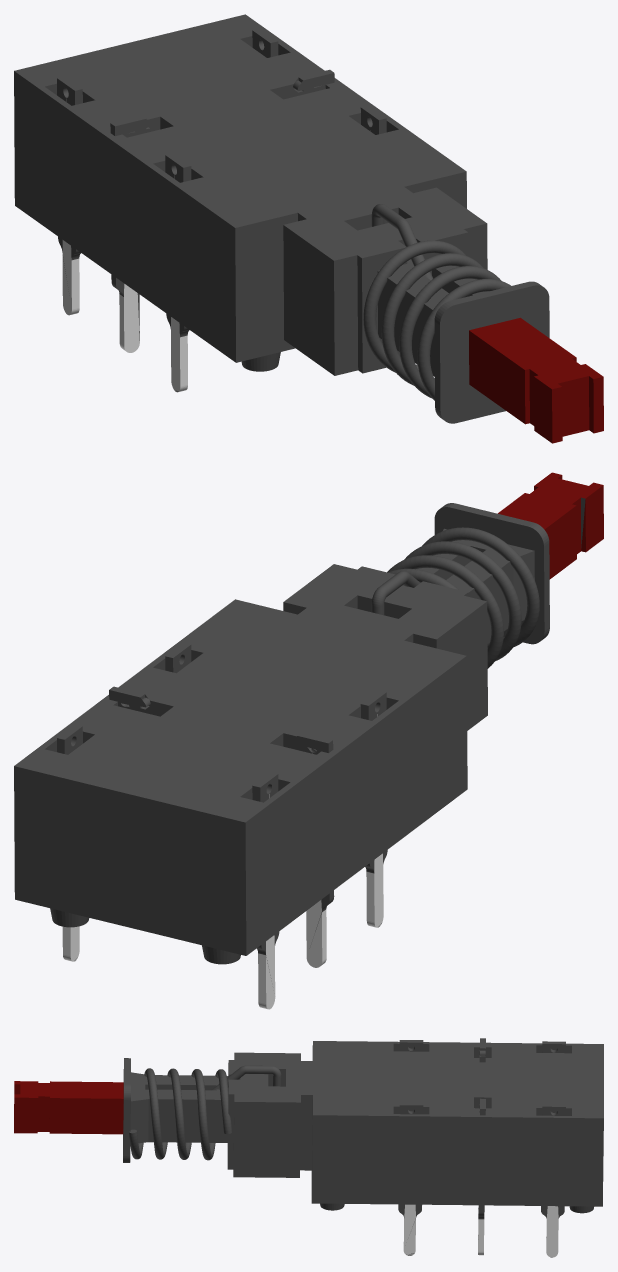
Rendered from poweswitch.fbx.
The picture shows the model from 3 angles, top to bottom: view 1: azimuth 30°, elevation 25°; view 2: azimuth 150°, elevation 25°; view 3: azimuth 270°, elevation 25°; orthographic projection. The views are drawn at different scales.
Parts seen in each view (by area): view 1: User Library-Power switch pushbutton WB PT-S4PL; view 2: User Library-Power switch pushbutton WB PT-S4PL; view 3: User Library-Power switch pushbutton WB PT-S4PL.
Boxes of the visible parts, x1,y1,x2,y2 form: User Library-Power switch pushbutton WB PT-S4PL: [14, 14, 603, 443]; User Library-Power switch pushbutton WB PT-S4PL: [14, 472, 603, 1009]; User Library-Power switch pushbutton WB PT-S4PL: [14, 1038, 603, 1257].
Size of the model in its own units: 1480 by 1476 by 4965.
